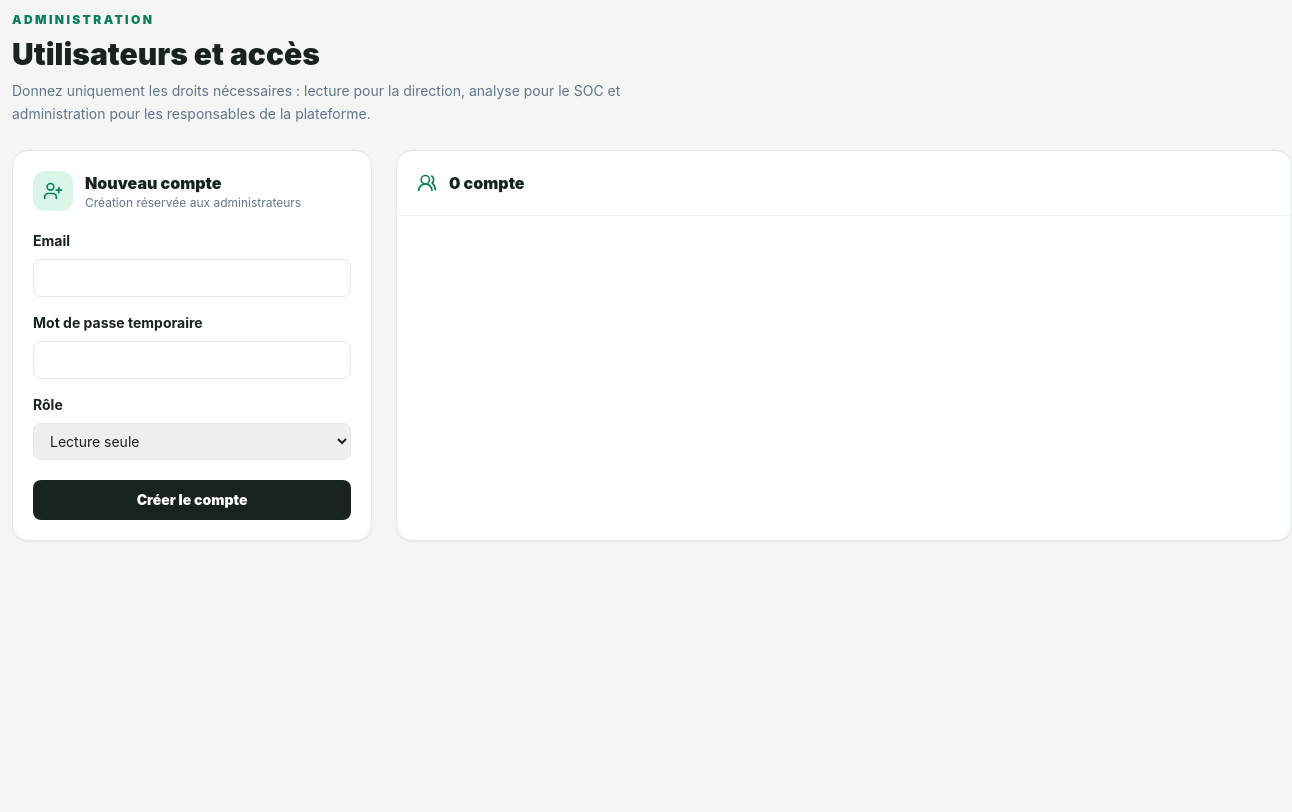
Scenario: Users › crée un compte depuis le formulaire administrateur
Expected: the heading "Nouveau compte" is shown, [85,172,222,192]
In the field labelled "Email": (192, 278) [33,258,351,296], type "analyste@test.local"
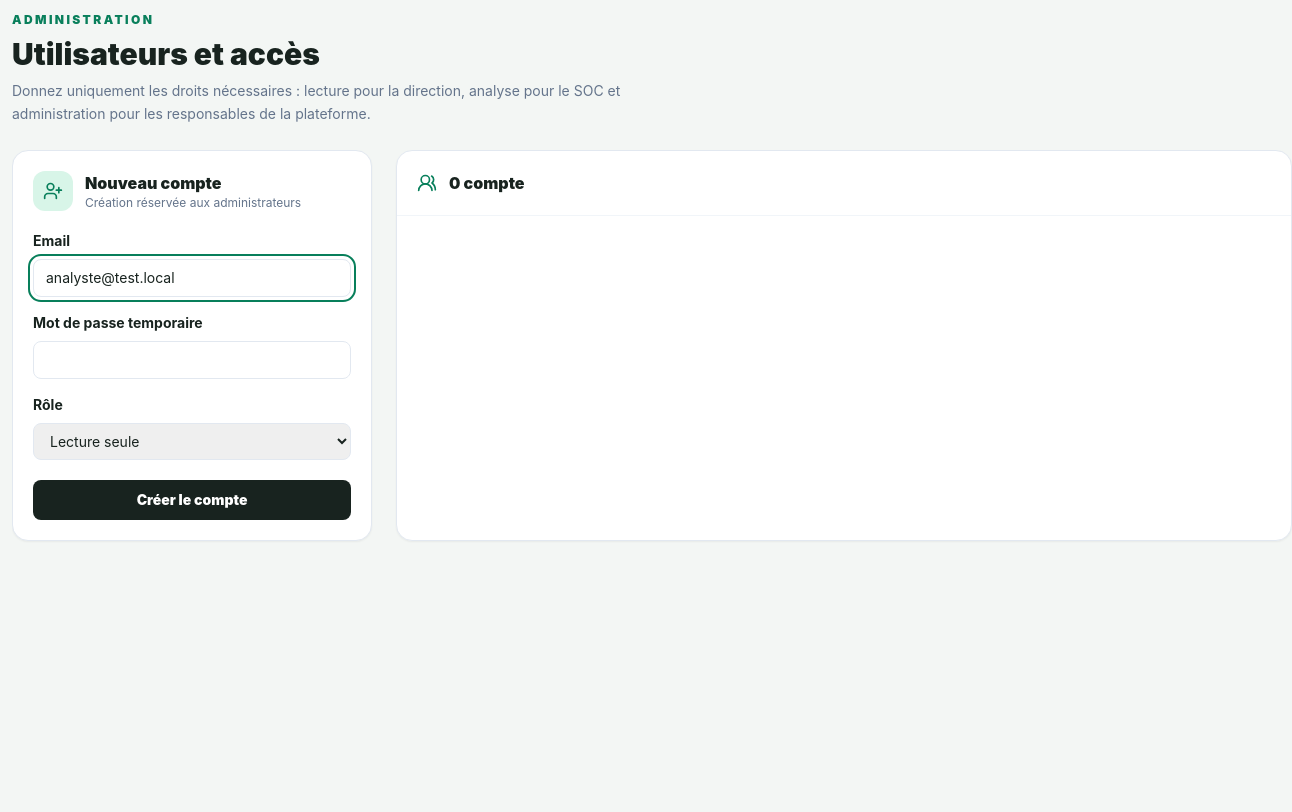
In the password field labelled "Mot de passe temporaire": (192, 360) [33,340,351,378], type "SuperSecret1"
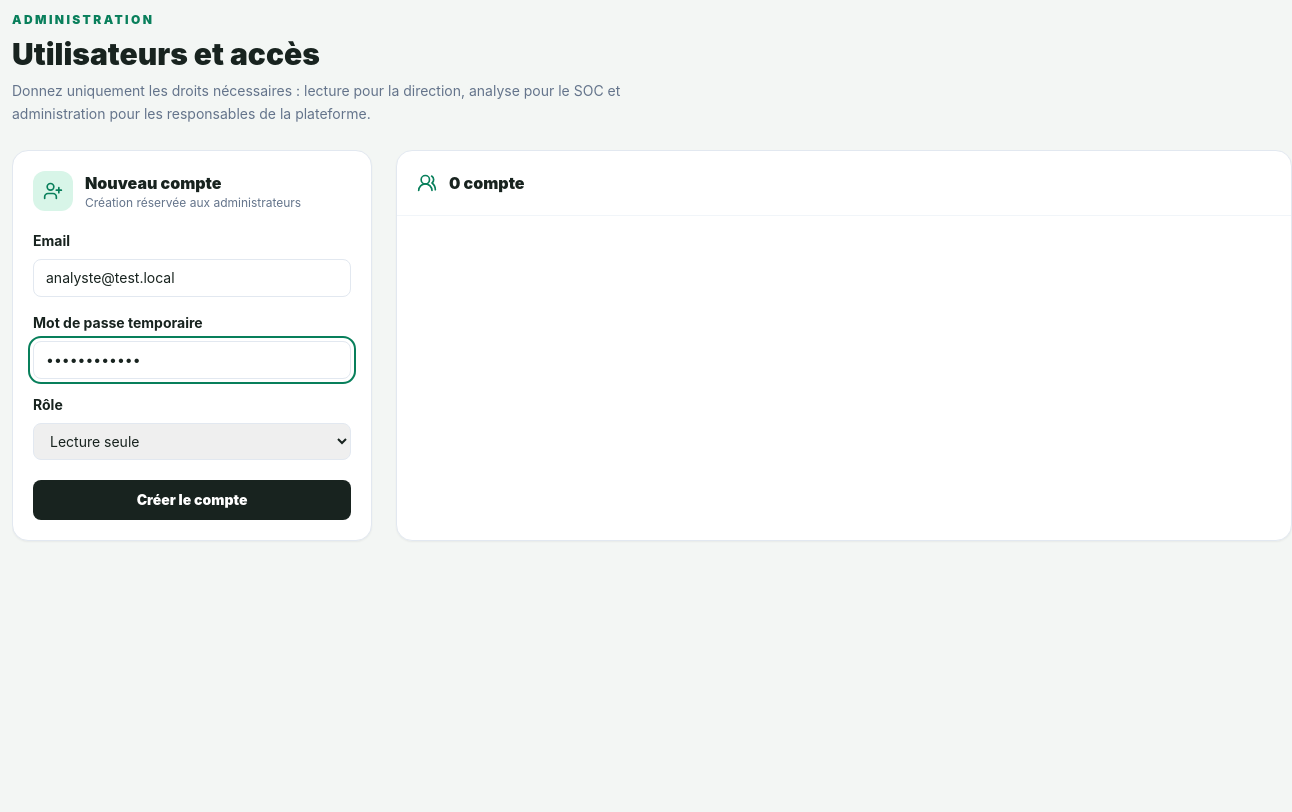
Select "Analyste SOC" in the dropdown labelled "Rôle": (192, 441) [33,422,351,460]
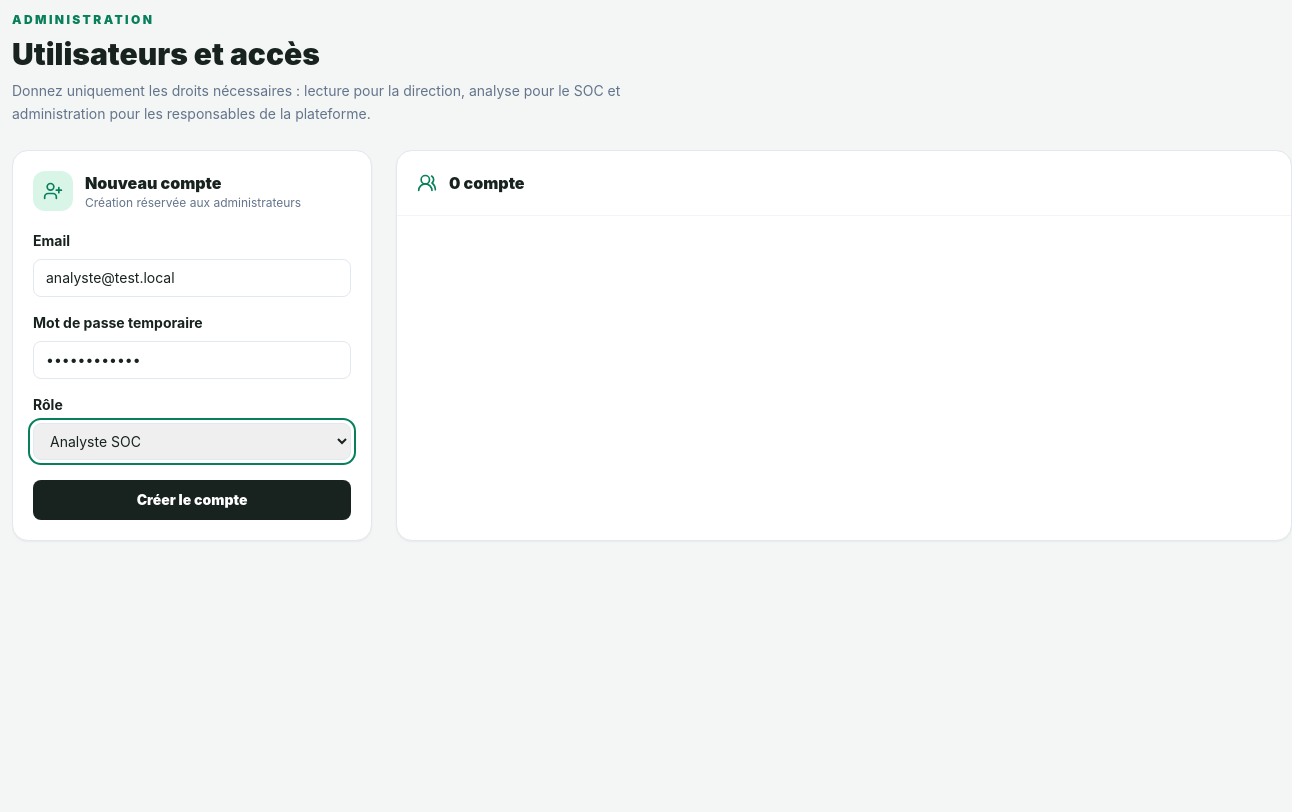
Click the button "Créer le compte": (192, 500) [33,480,351,520]
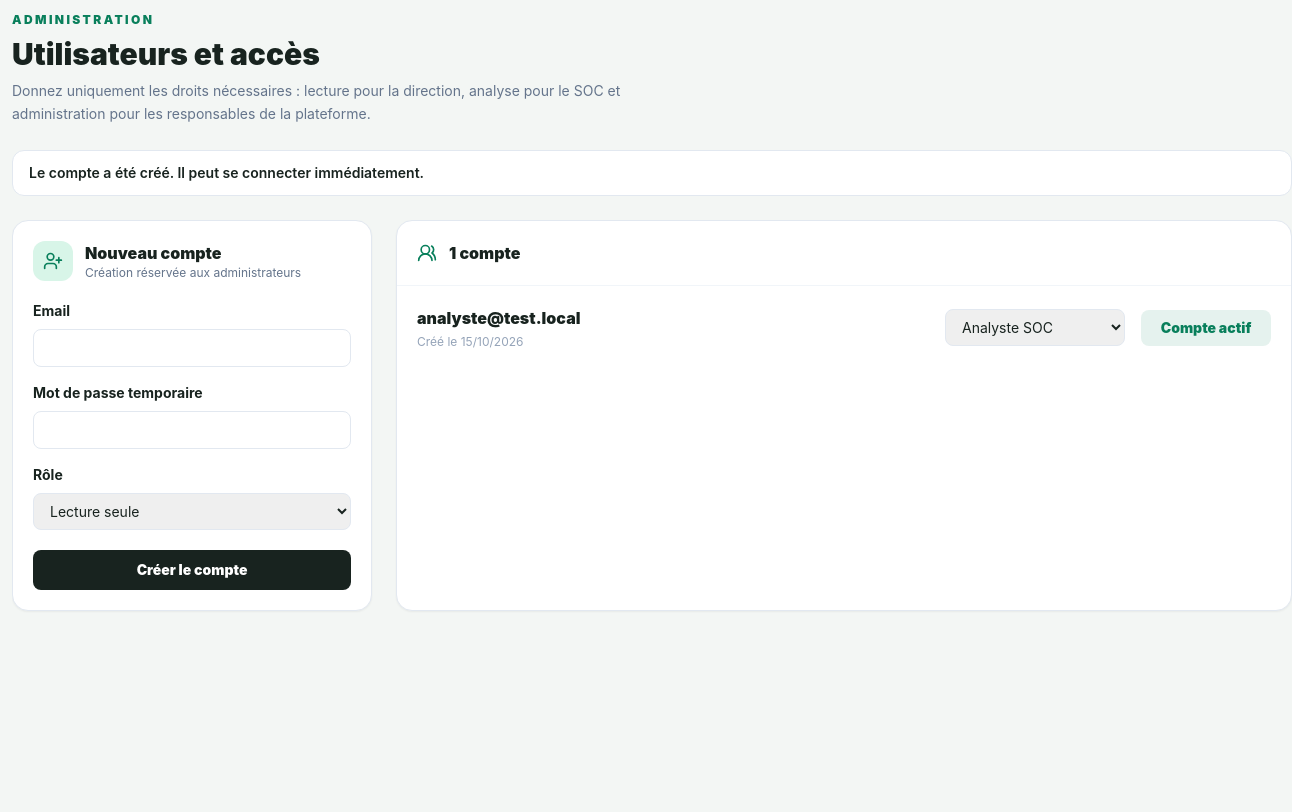
Expected: the text "analyste@test.local" is shown, [417,308,580,328]
